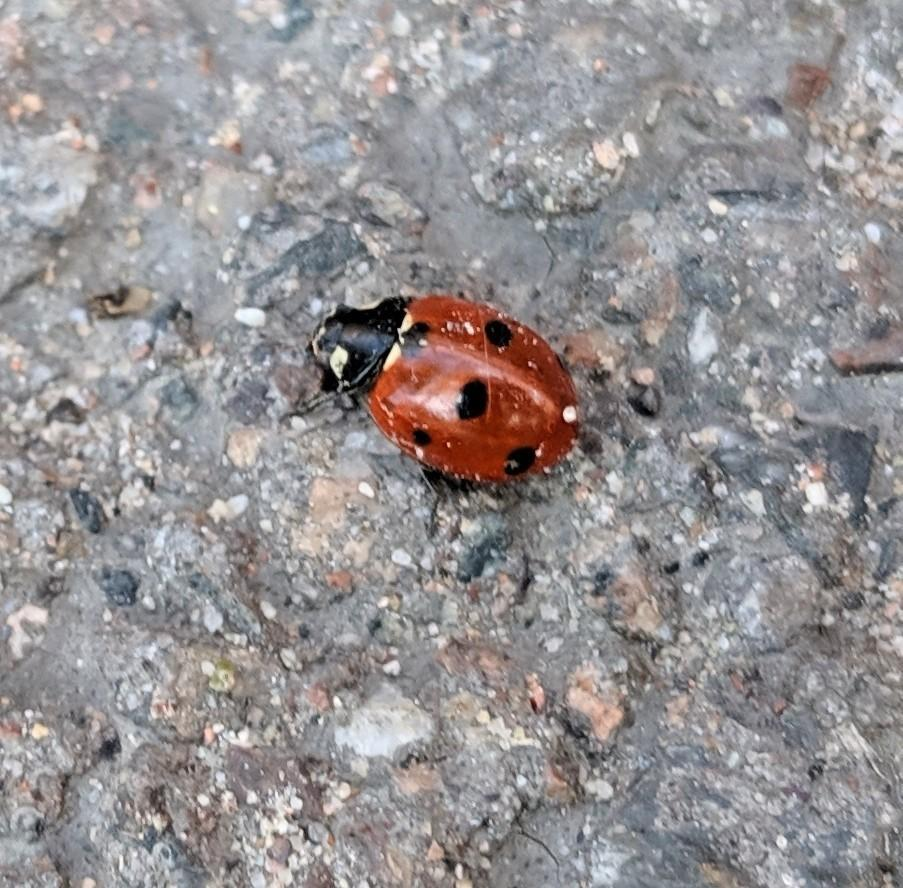ladybug: (296, 291, 586, 544)
